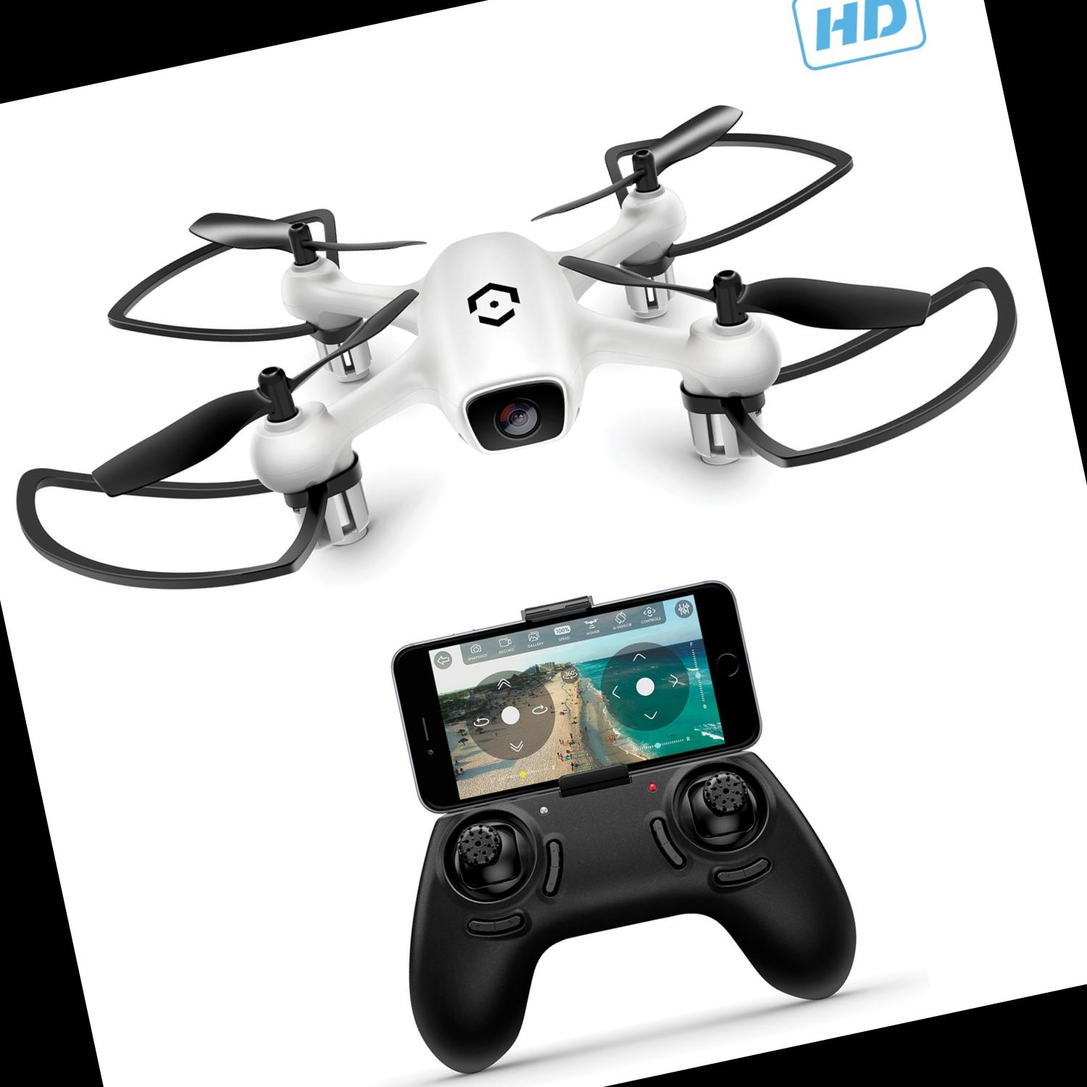drone: (0, 12, 1054, 638)
